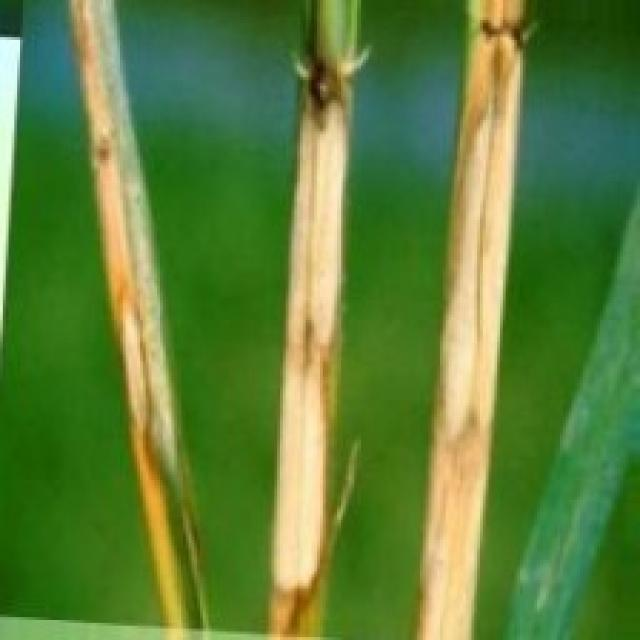Bacterial_Blight: (59, 19, 198, 626), (440, 0, 506, 640), (278, 102, 342, 600), (106, 291, 174, 510)
